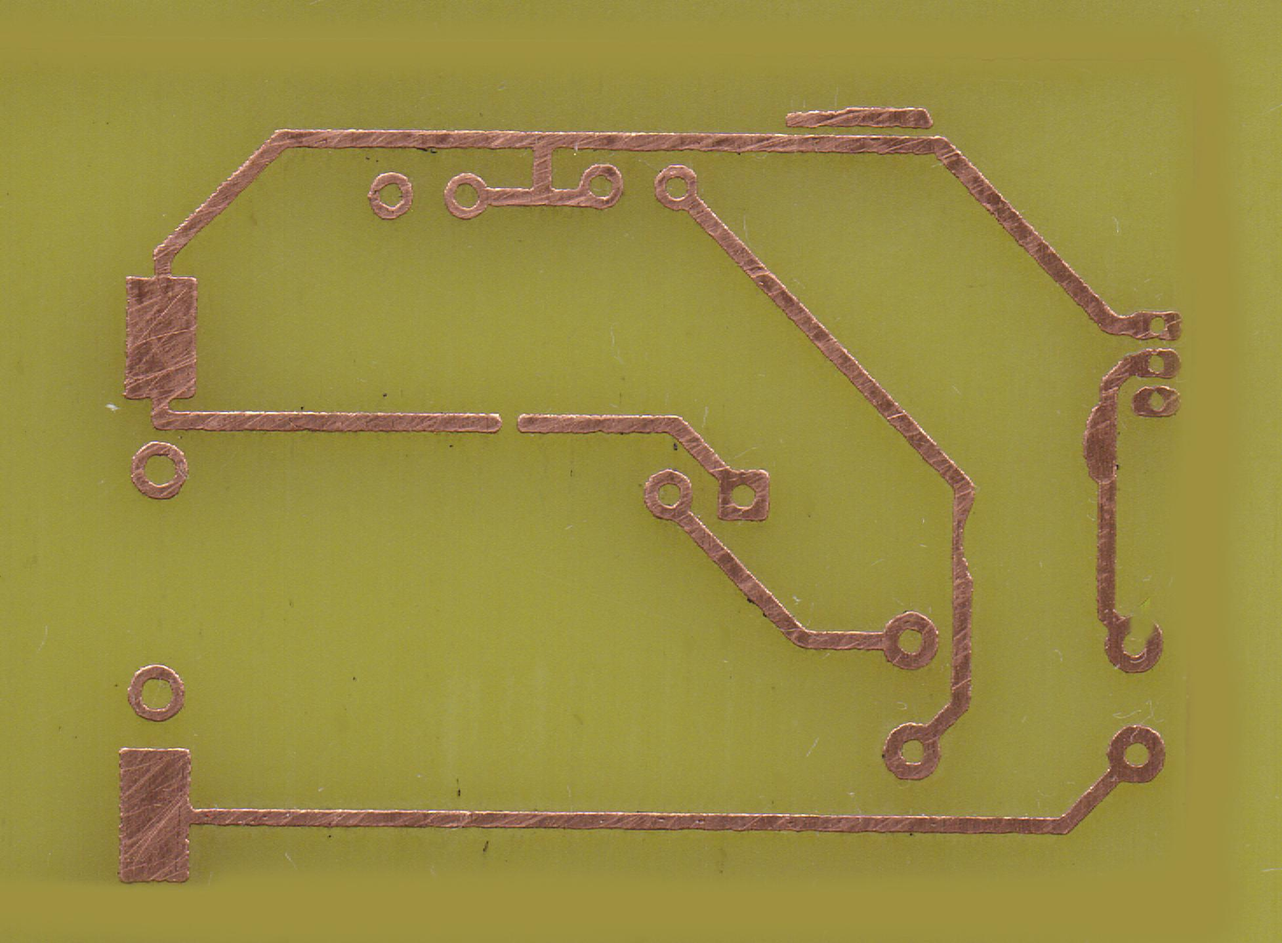missing_hole: (1098, 614, 1167, 679)
mouse_bite: (949, 490, 978, 588)
open_circuit: (484, 407, 534, 437)
short: (524, 119, 560, 213)
spur: (1080, 401, 1125, 487)
spurious_copper: (779, 103, 935, 132)
